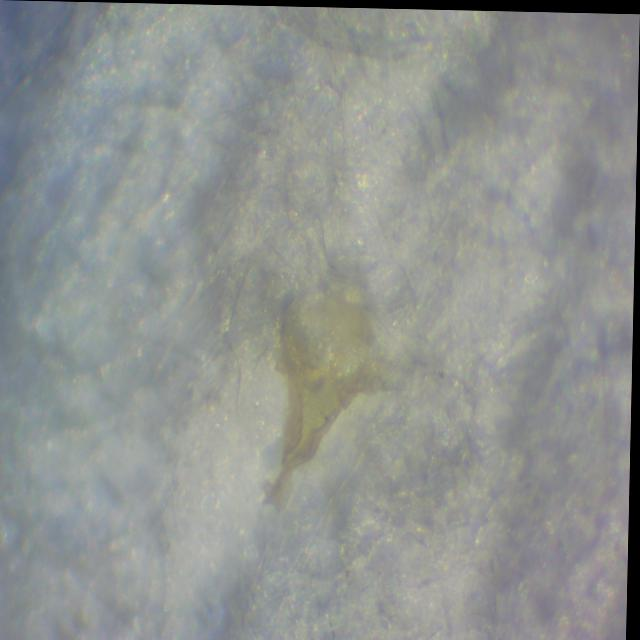microplastic: (274, 271, 395, 504)
